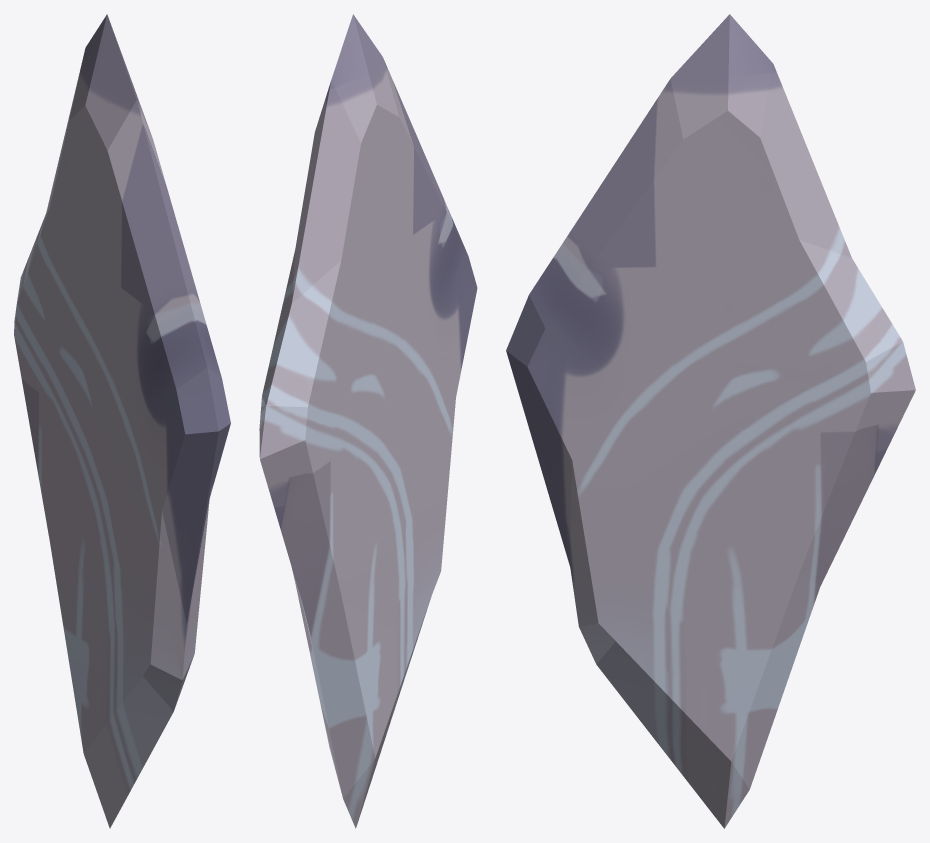
File: Skill 1 Mirror 1.glb
The picture shows the model from 3 angles, left to right: view 1: azimuth 30°, elevation 25°; view 2: azimuth 150°, elevation 25°; view 3: azimuth 270°, elevation 25°; orthographic projection.
Visible parts, largest first — view 1: cyrene_00_skill01_mirror01_LOD0; view 2: cyrene_00_skill01_mirror01_LOD0; view 3: cyrene_00_skill01_mirror01_LOD0.
Boxes of the visible parts, x1,y1,x2,y2 form: cyrene_00_skill01_mirror01_LOD0: (14,14,230,828); cyrene_00_skill01_mirror01_LOD0: (259,14,477,828); cyrene_00_skill01_mirror01_LOD0: (506,14,915,828).
Size of the model in its own units: 0.1631 by 2.66 by 1.21.
1 material, 1 textured.
